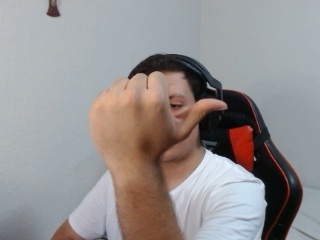Izquierda: (83, 70, 226, 155)
